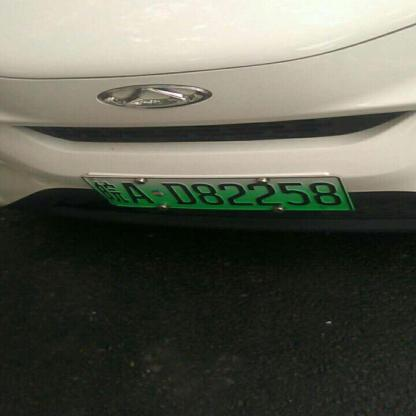lp: (81, 174, 354, 210)
